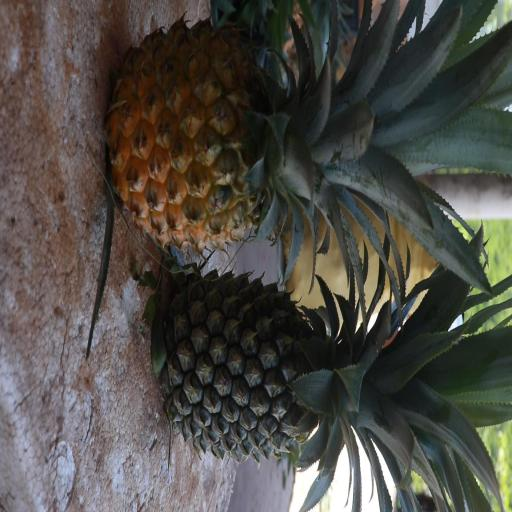Pineapple - v8 v1: (113, 25, 465, 245)
